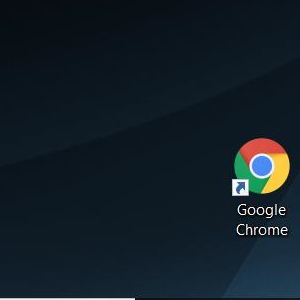chrome: (231, 137, 289, 196)
